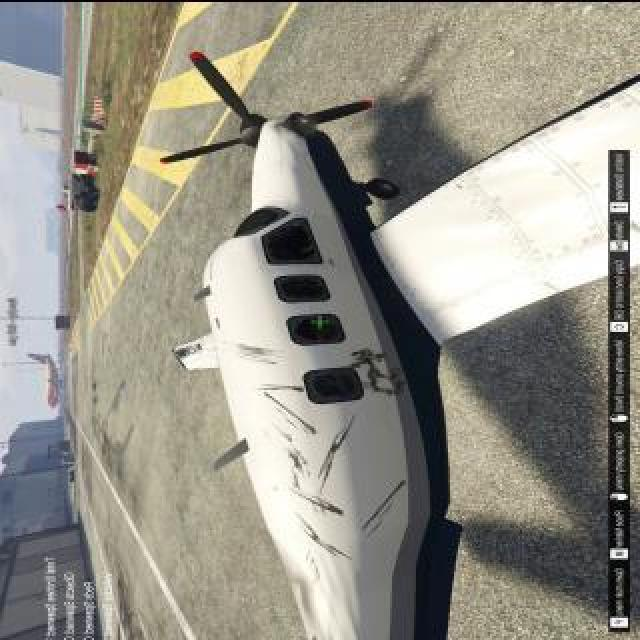dent: (297, 513, 352, 558), (351, 348, 400, 396), (264, 390, 318, 433), (363, 480, 406, 530), (319, 432, 346, 485), (293, 489, 344, 514), (240, 344, 282, 356), (257, 384, 305, 391), (288, 450, 303, 467)
